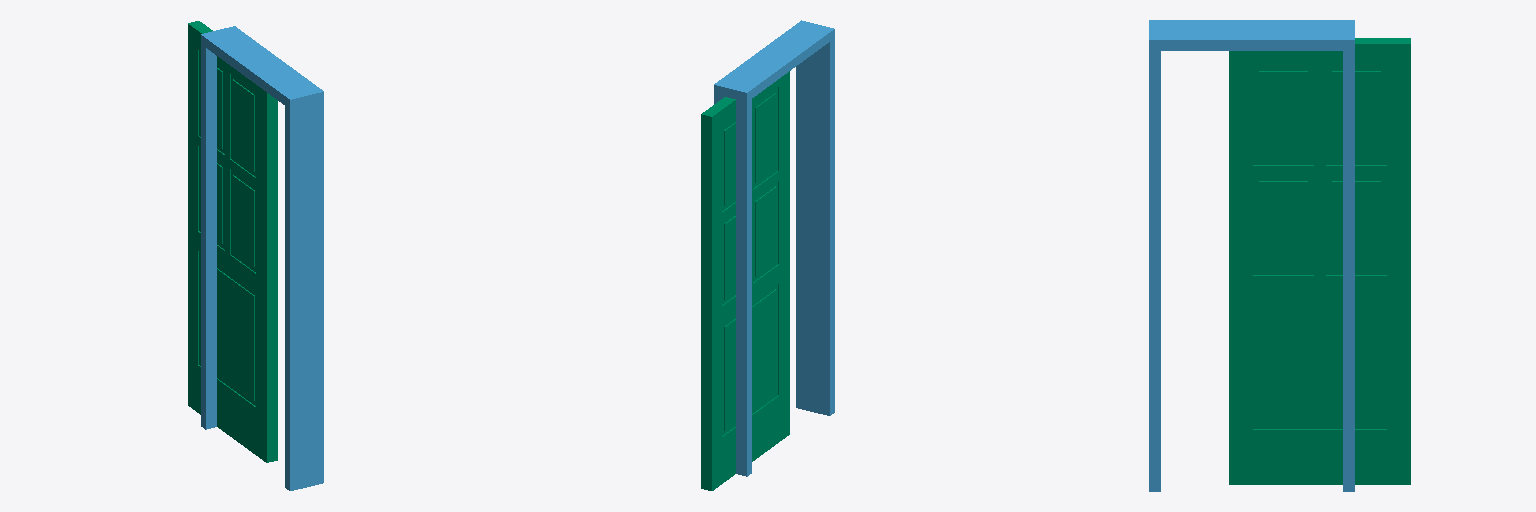
The robot description file, URDF, robot "partnet_2819768b2cf9b4533173e85cafa594f9":
<?xml version="1.0" ?>
<robot name="partnet_2819768b2cf9b4533173e85cafa594f9">
	<link name="base"/>
	<link name="link_0">
		<visual name="outside_frame-1">
			<origin xyz="0 0 0"/>
			<geometry>
				<mesh filename="textured_objs/original-2.obj"/>
			</geometry>
		</visual>
		<collision>
			<origin xyz="0 0 0"/>
			<geometry>
				<mesh filename="textured_objs/original-2.obj"/>
			</geometry>
		</collision>
	</link>
	<joint name="joint_0" type="fixed">
		<origin rpy="1.570796326794897 0 -1.570796326794897" xyz="0 0 0"/>
		<child link="link_0"/>
		<parent link="base"/>
	</joint>
	<link name="link_1">
		<visual name="surface_board-13">
			<origin xyz="0.43515599999999965 -0.7716921802271752 0.005464881261307342"/>
			<geometry>
				<mesh filename="textured_objs/new-0.obj"/>
			</geometry>
		</visual>
		<collision>
			<origin xyz="0.43515599999999965 -0.7716921802271752 0.005464881261307342"/>
			<geometry>
				<mesh filename="textured_objs/new-0.obj"/>
			</geometry>
		</collision>
	</link>
	<joint name="joint_1" type="prismatic">
		<origin xyz="-0.43515599999999965 0.7716921802271752 -0.005464881261307342"/>
		<axis xyz="-1 0 0"/>
		<child link="link_1"/>
		<parent link="link_0"/>
		<limit lower="-0.2360000000000002" upper="0.43999999999999995"/>
	</joint>
</robot>

--- What the picture shows (computed from the rendered views, not written in the file) ---
Views: 3 orthographic renders of the robot side by side, from view 1: azimuth 30°, elevation 25°; view 2: azimuth 150°, elevation 25°; view 3: azimuth 270°, elevation 25°.
Model partnet_2819768b2cf9b4533173e85cafa594f9 with 3 links and 2 joints (1 prismatic, 1 fixed), rooted at base, posed every joint at zero.
Visible links, largest first — view 1: link_1, link_0; view 2: link_1, link_0; view 3: link_1, link_0.
Boxes of the visible links, x1,y1,x2,y2 form: link_1: [188, 21, 277, 462]; link_0: [201, 26, 323, 490]; link_1: [701, 71, 789, 490]; link_0: [714, 20, 834, 476]; link_1: [1229, 38, 1410, 484]; link_0: [1149, 20, 1354, 491].
Bounding box of the posed robot: 0.1579 × 0.9103 × 1.73 m (x, y, z).
2 mesh visuals loaded from 2 distinct referenced files (2 OBJ).
